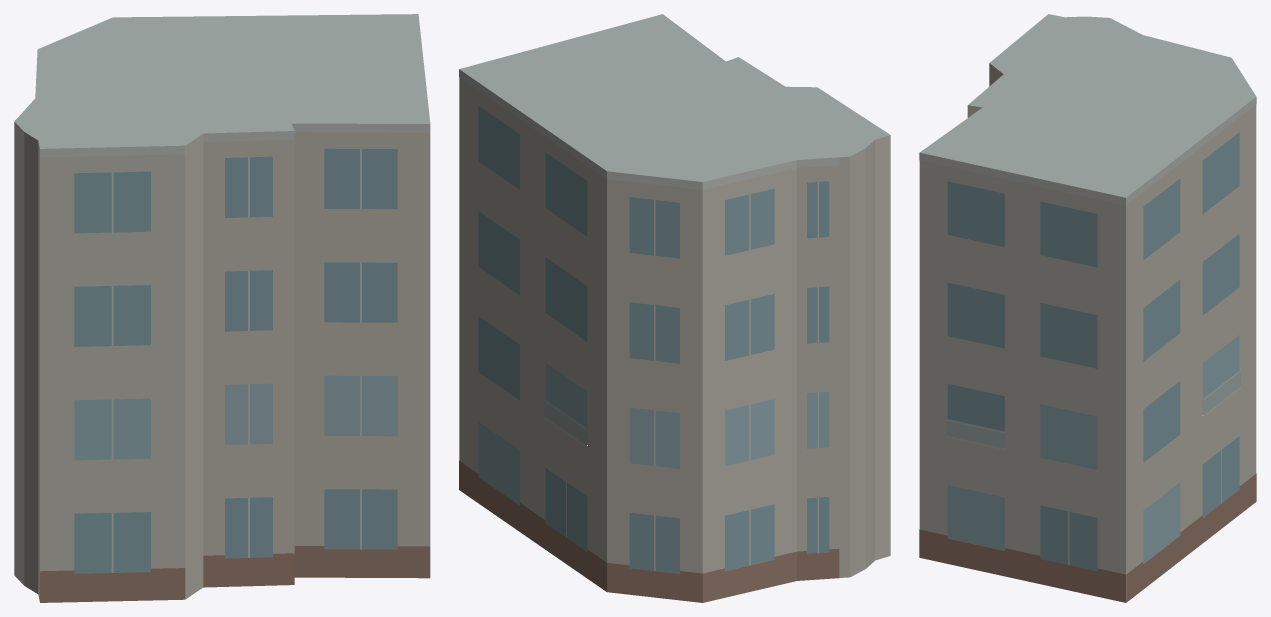
File: survey-upis-32733936.glb
3 renders of one model, left to right at view 1: azimuth 30°, elevation 25°; view 2: azimuth 150°, elevation 25°; view 3: azimuth 270°, elevation 25°, orthographic. The views are drawn at different scales.
Visible parts, largest first — view 1: survey-upis-32733936.tmp; view 2: survey-upis-32733936.tmp; view 3: survey-upis-32733936.tmp.
Part boxes in pixels (left/top/right/bottom): survey-upis-32733936.tmp: left=14, top=14, right=430, bottom=602; survey-upis-32733936.tmp: left=459, top=14, right=890, bottom=602; survey-upis-32733936.tmp: left=919, top=14, right=1256, bottom=602.
Size of the model in its own units: 12.56 by 12.9 by 9.74.
